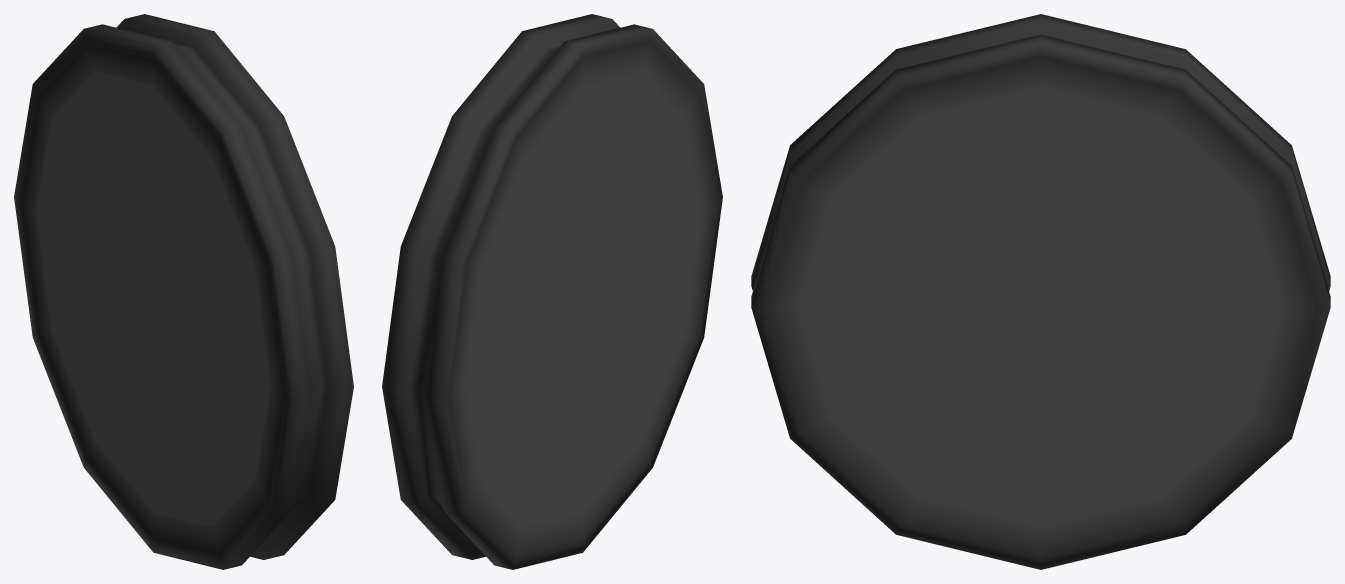
Rendered from Heaterpipe_Connector.fbx.
3 views of the same model, side by side, from view 1: azimuth 30°, elevation 25°; view 2: azimuth 150°, elevation 25°; view 3: azimuth 270°, elevation 25° (orthographic). The views are drawn at different scales.
Visible parts, largest first — view 1: heater_pipe_connector; view 2: heater_pipe_connector; view 3: heater_pipe_connector.
Part boxes in pixels (x1,y1,x2,y2): heater_pipe_connector: (14,14,353,569); heater_pipe_connector: (382,14,722,569); heater_pipe_connector: (751,14,1330,569).
Bounding box in the file's own units: 6.02 × 47.45 × 47.45.
Materials: 1 (1 with a texture image).
